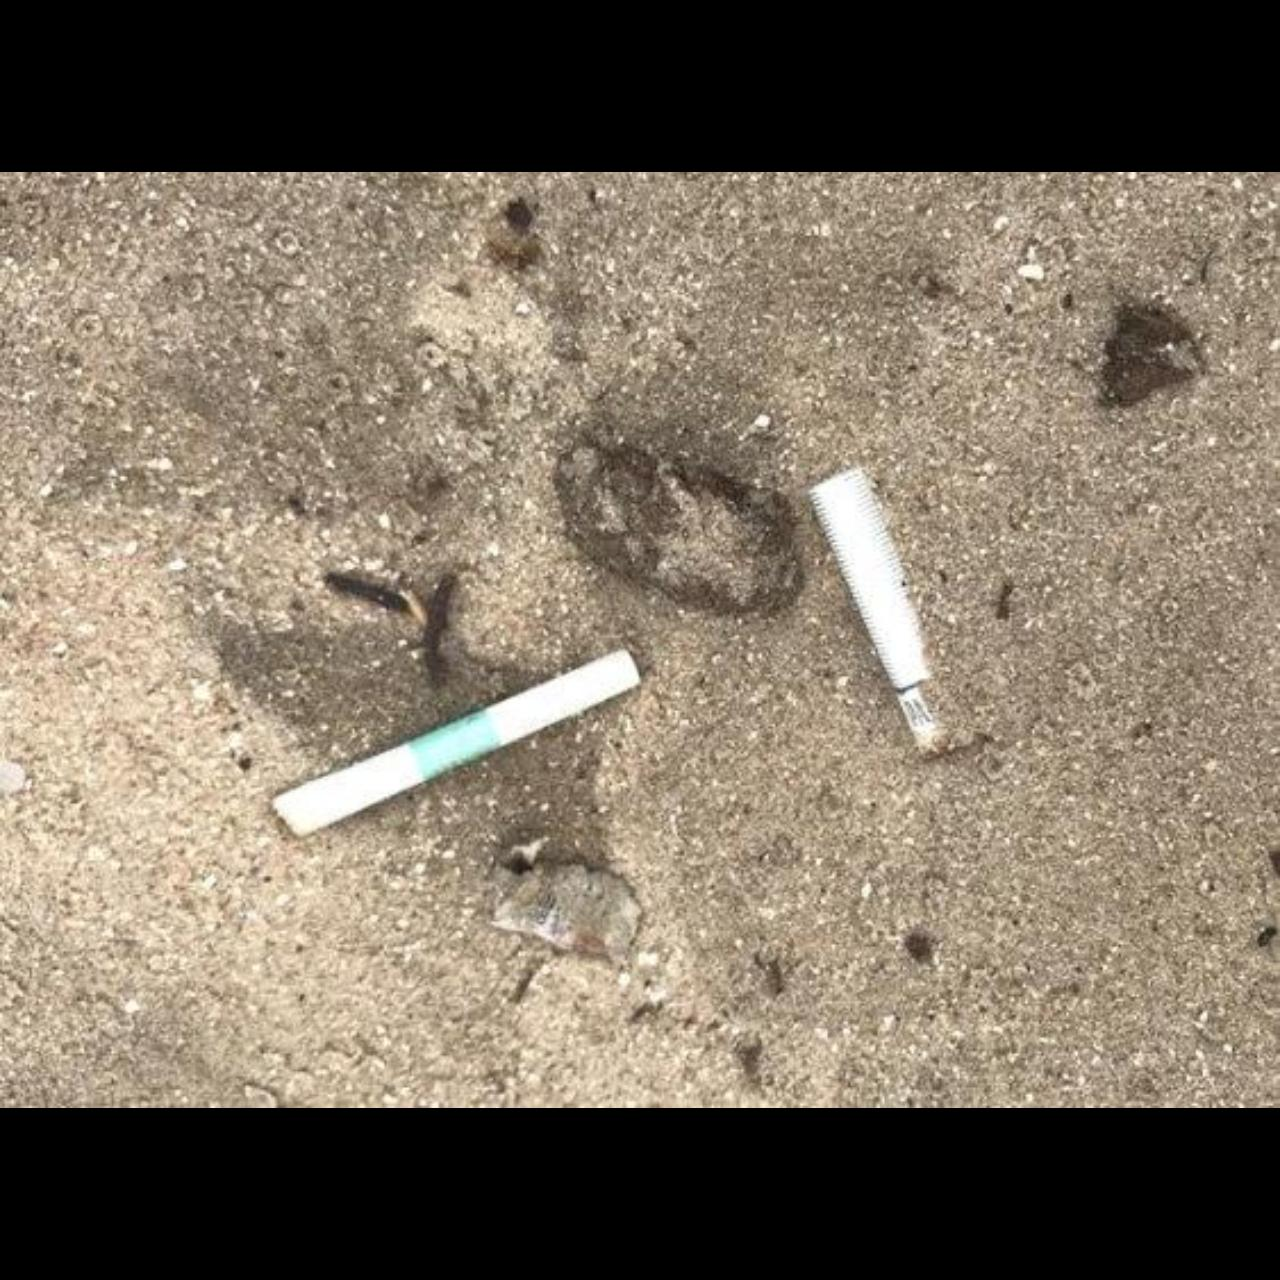cigarettes_butts: (273, 652, 639, 838), (809, 468, 975, 763)
